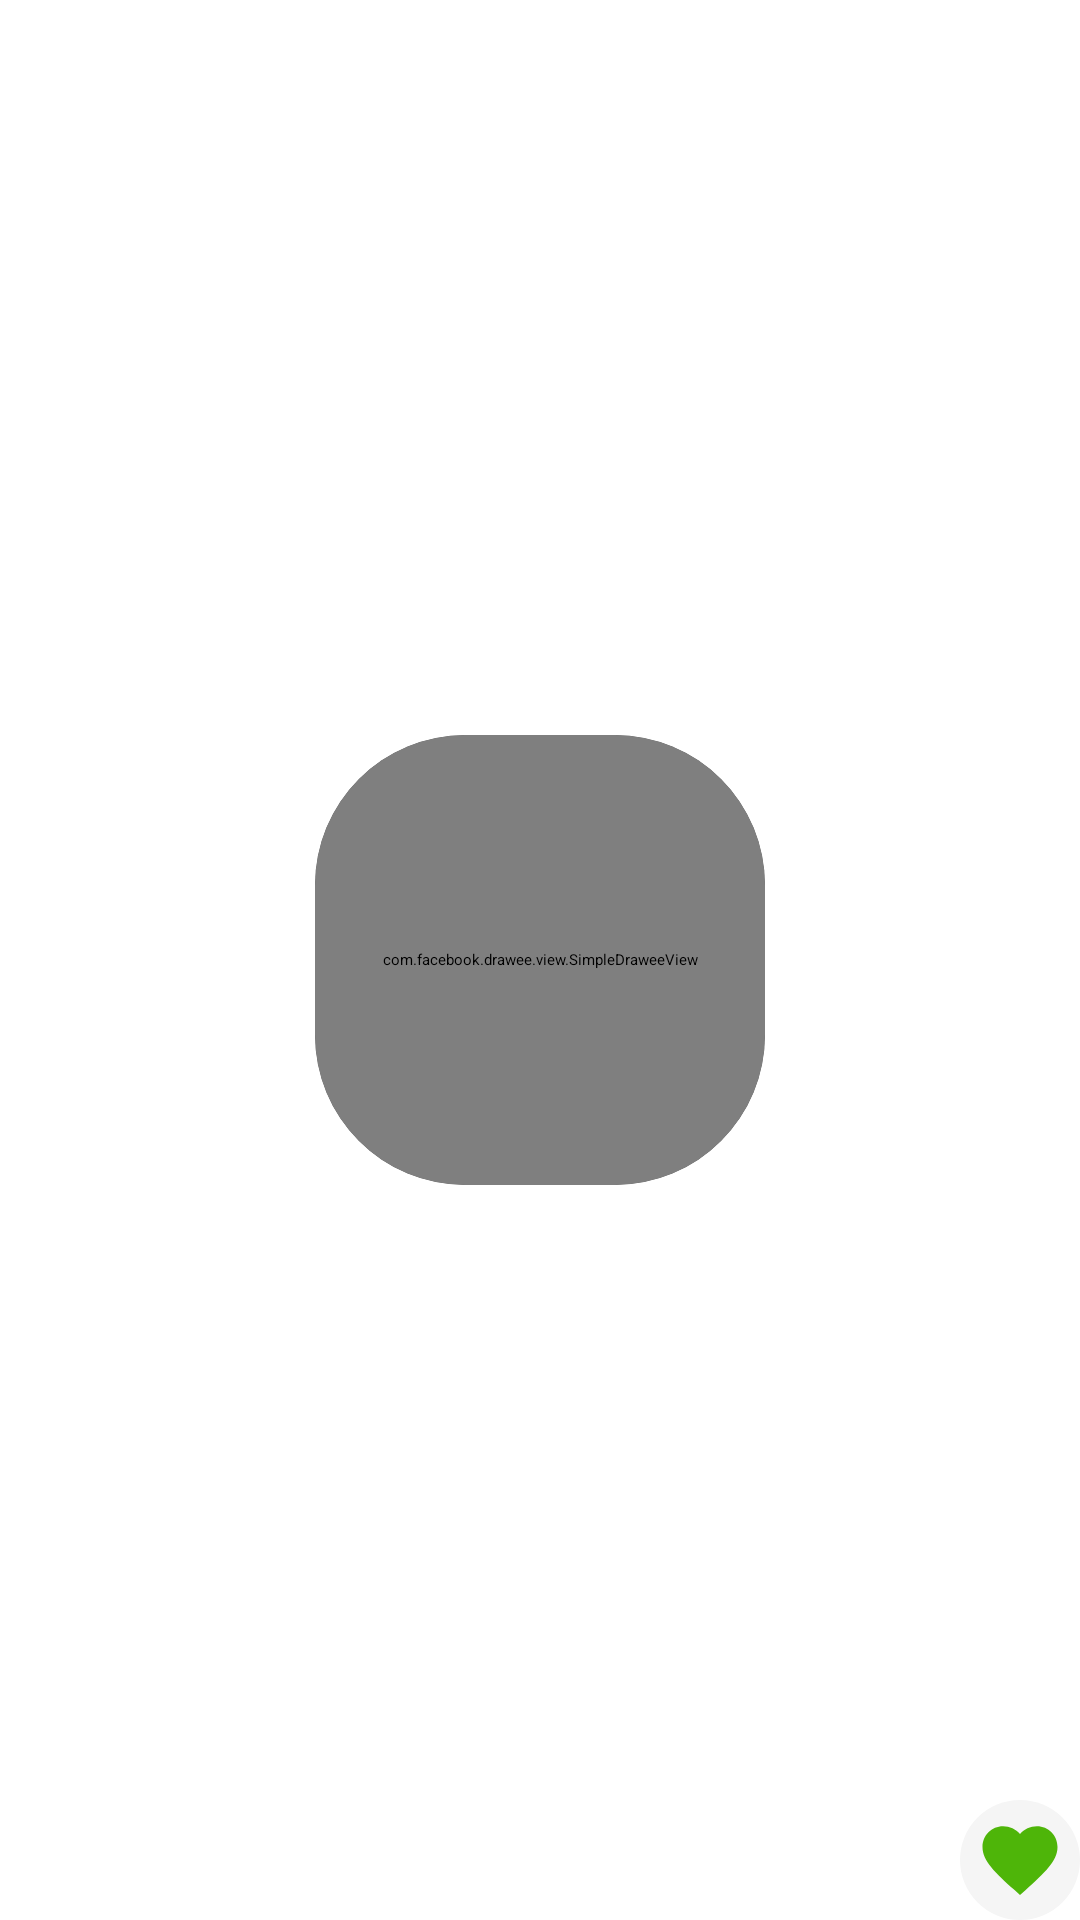

Icon click points for this 1080px x 1920px phone screenshot, format point (x, y):
favorite: point (1020, 1860)
